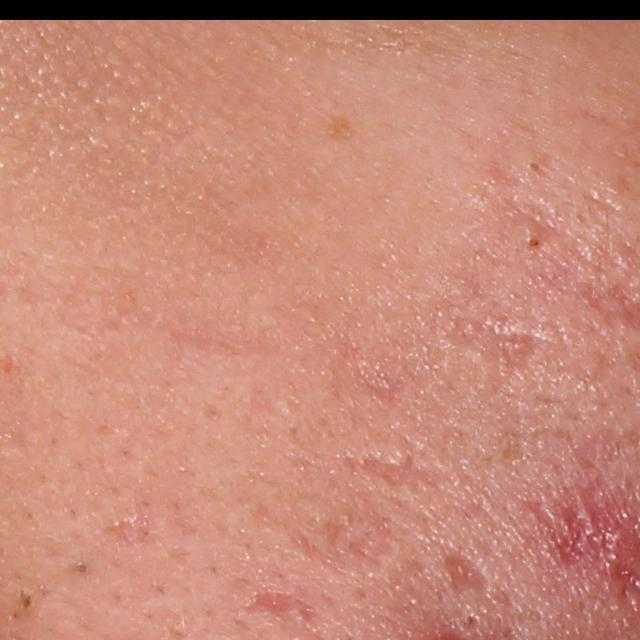atrophic_scar: (440, 311, 534, 394), (350, 449, 460, 492), (239, 588, 317, 626), (438, 549, 493, 595)
comedo: (69, 558, 92, 581)
